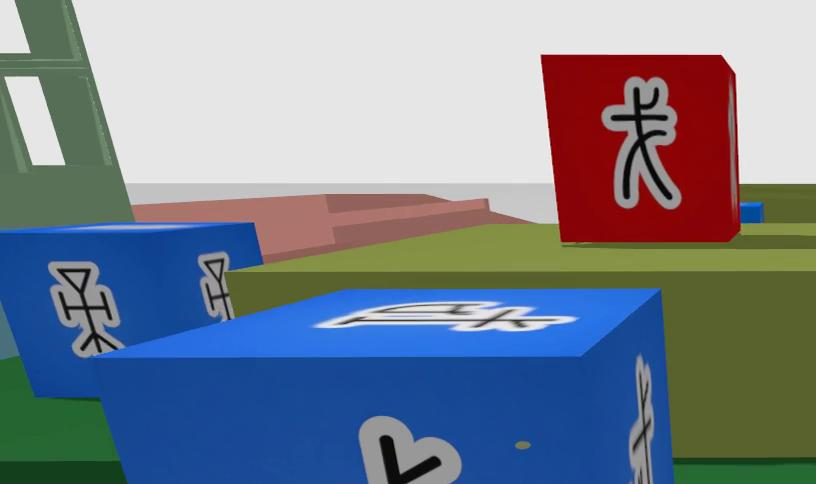KFS_FAKE: (541, 55, 737, 242), (602, 77, 681, 209)
KFS_REAL: (0, 222, 261, 396), (316, 299, 576, 331), (358, 416, 461, 484), (629, 355, 654, 484)
